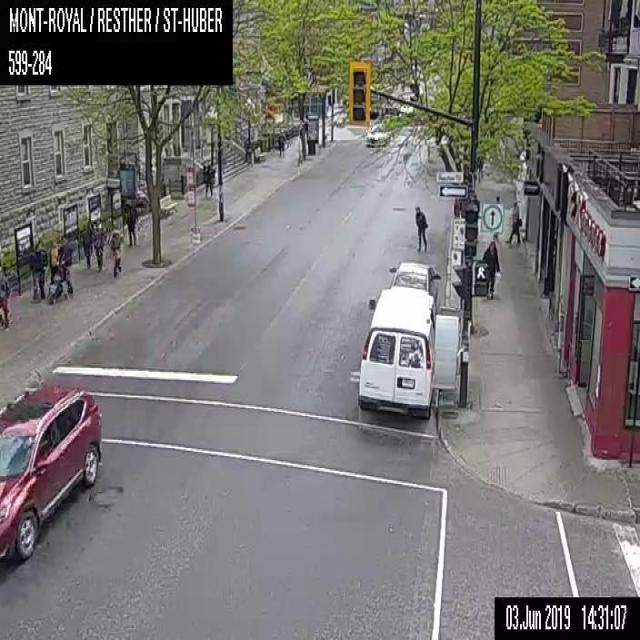pedestrian: (47, 236, 72, 304), (480, 238, 500, 298), (28, 244, 42, 298), (504, 201, 522, 243), (0, 265, 10, 331), (414, 205, 428, 252), (124, 201, 138, 245), (92, 228, 104, 271), (81, 223, 92, 267), (38, 240, 46, 298), (48, 240, 59, 282), (110, 232, 120, 276), (203, 164, 215, 198), (276, 128, 286, 156)
vehicle: (0, 386, 102, 562), (358, 285, 458, 419), (389, 260, 440, 295), (365, 123, 392, 146)
